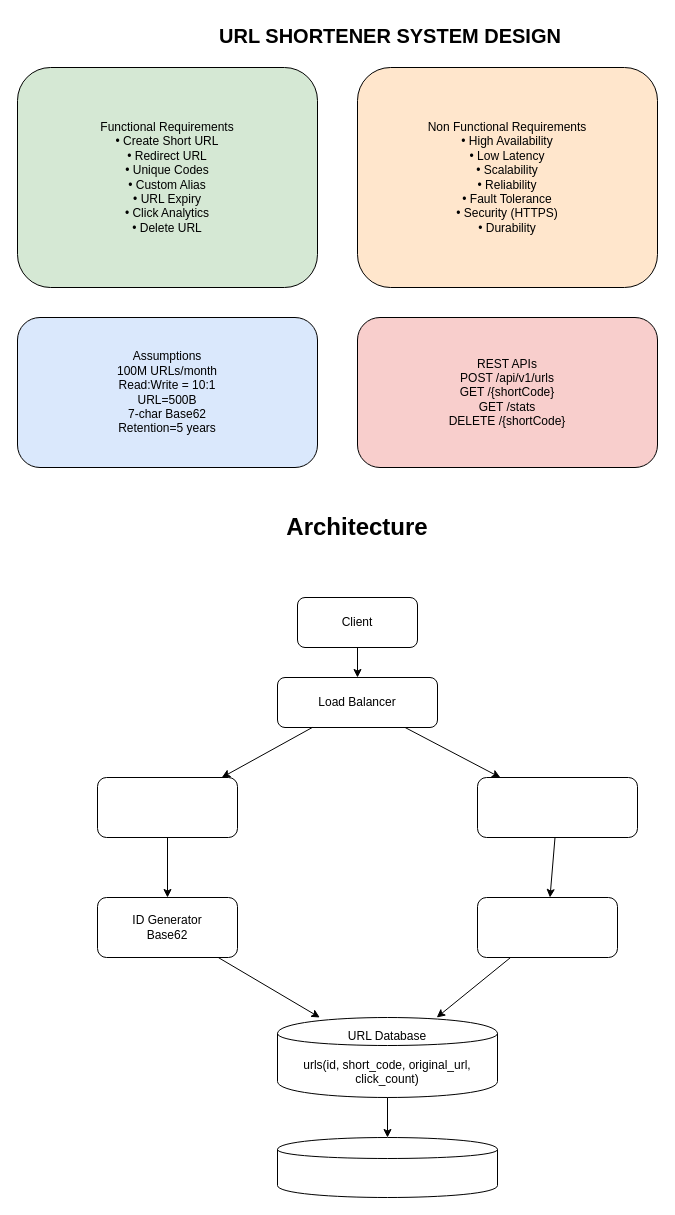
The diagram is 675 pixels wide and 1215 high, and some of its shapes have lost their labels. Each missing label, with the centre of its shape:
"Backup/Replica" belongs at [387,1167].
"Redirect Service" belongs at [557,807].
"Redis Cache" belongs at [547,927].
"URL Service" belongs at [167,807].
